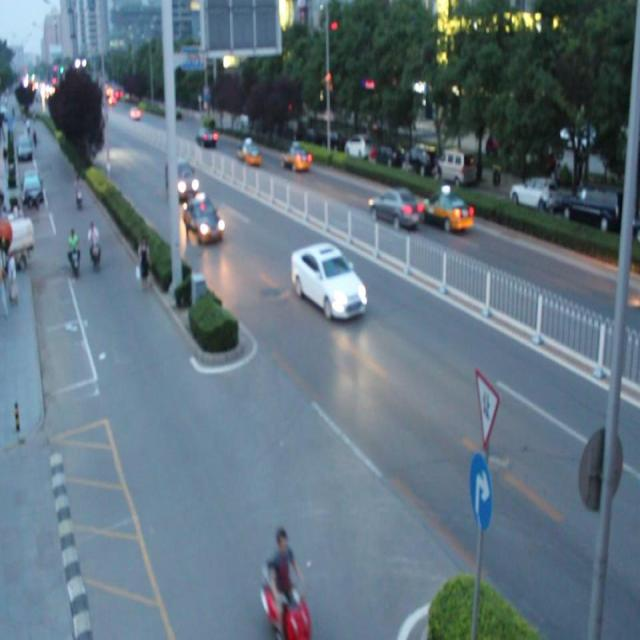car: (289, 242, 366, 320), (418, 186, 472, 232), (367, 186, 420, 228), (183, 197, 221, 244), (279, 143, 308, 172), (235, 138, 261, 167), (196, 123, 217, 147)
truck: (167, 158, 196, 198)
